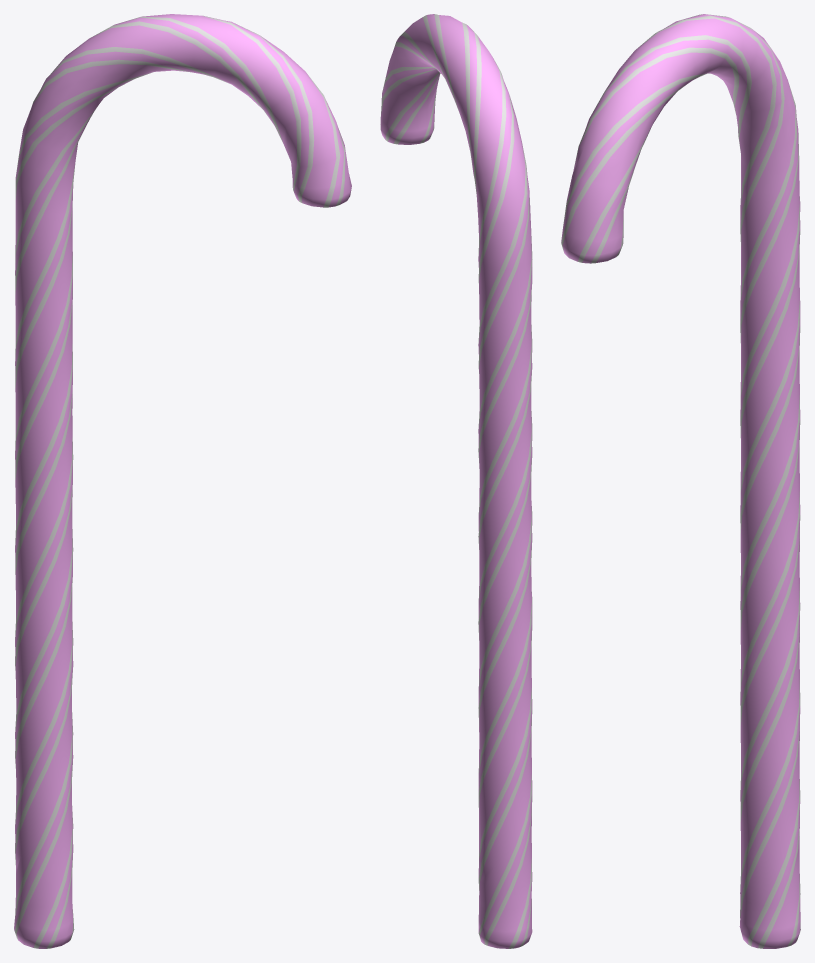
File: Polkagris_9.glb
3 views of the same model, side by side, from view 1: azimuth 30°, elevation 25°; view 2: azimuth 150°, elevation 25°; view 3: azimuth 270°, elevation 25° (orthographic). The views are drawn at different scales.
Parts seen in each view (by area): view 1: Polkagrisar.009; view 2: Polkagrisar.009; view 3: Polkagrisar.009.
Boxes of the visible parts, x1,y1,x2,y2 form: Polkagrisar.009: [14, 14, 351, 948]; Polkagrisar.009: [380, 14, 532, 948]; Polkagrisar.009: [561, 14, 800, 948].
Size of the model in its own units: 0.6793 by 2.48 by 0.5597.
